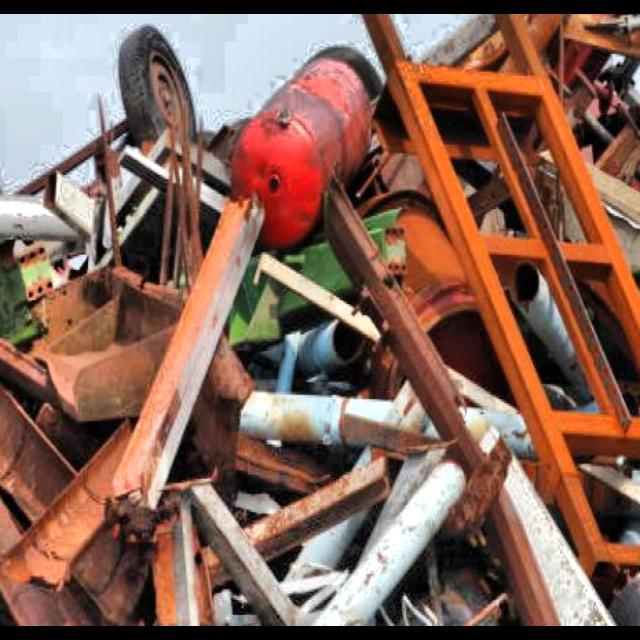Cylinders: (223, 56, 376, 247)
